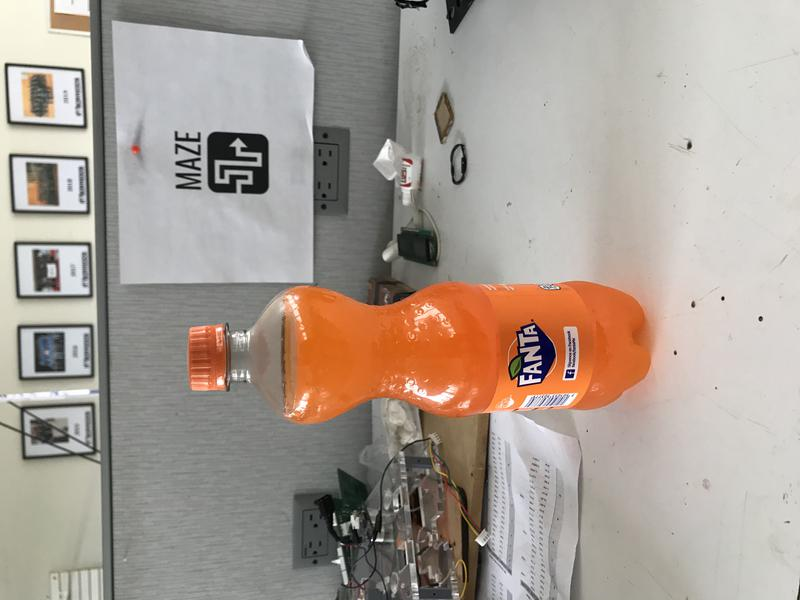fanta: (187, 280, 653, 424)
